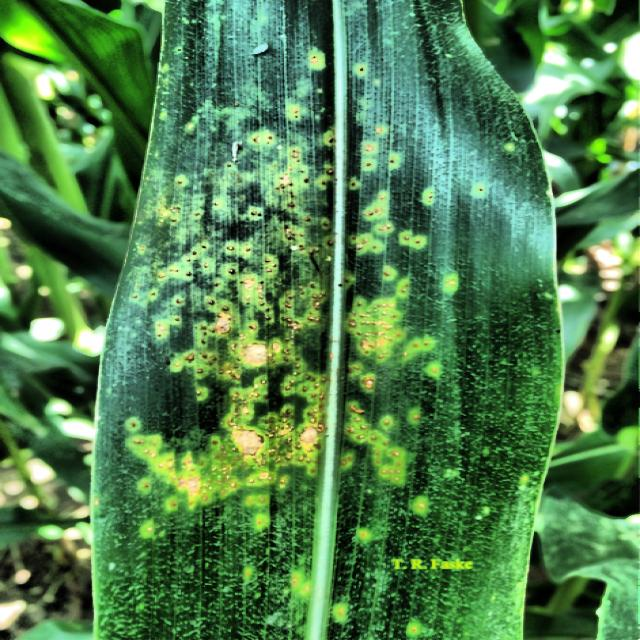common_rust: (158, 14, 522, 640)
